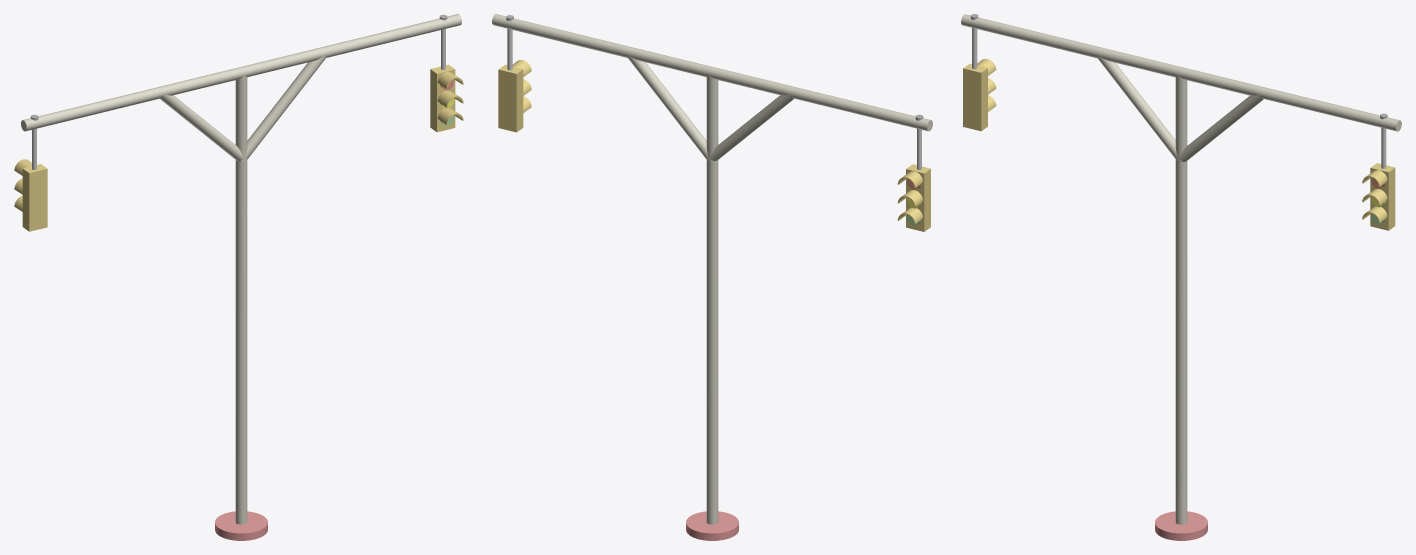
Rendered from props3.fbx.
3 views of the same model, side by side, from view 1: azimuth 30°, elevation 25°; view 2: azimuth 150°, elevation 25°; view 3: azimuth 330°, elevation 25° (orthographic).
Visible parts, largest first — view 1: Cylinder_2; view 2: Cylinder_2; view 3: Cylinder_2.
Part boxes in pixels (left/top/right/bottom): Cylinder_2: left=14, top=14, right=463, bottom=540; Cylinder_2: left=492, top=14, right=932, bottom=540; Cylinder_2: left=961, top=14, right=1401, bottom=540.
Size of the model in its own units: 889 by 905 by 93.83.
